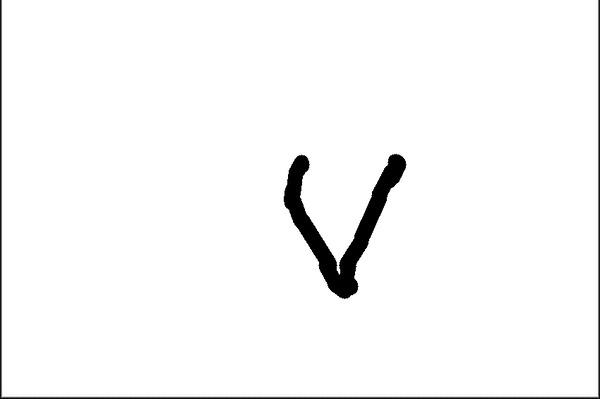V: (274, 144, 427, 304)
